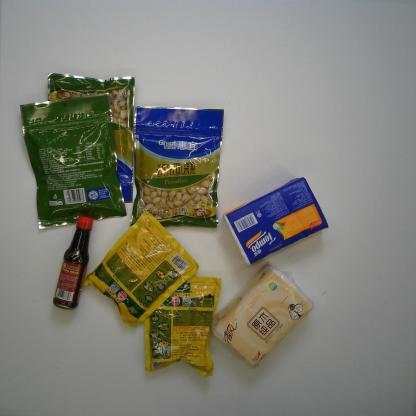Dried Fruit: (19, 91, 128, 230), (46, 70, 137, 204), (129, 103, 224, 229)
Seasoner: (84, 209, 200, 328), (144, 276, 223, 378), (52, 214, 95, 310)
Tissue: (209, 262, 314, 370), (222, 176, 330, 267)
